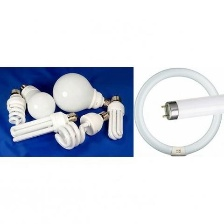light_bulb: (131, 64, 224, 160), (6, 108, 83, 144), (51, 109, 110, 152), (48, 72, 110, 112), (158, 90, 224, 123), (19, 81, 56, 124), (105, 94, 128, 142), (4, 85, 29, 127)
